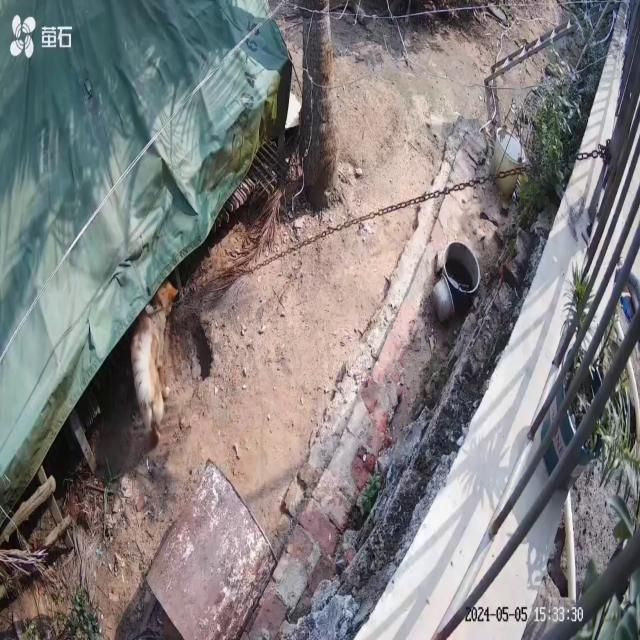dog: (130, 280, 179, 438)
